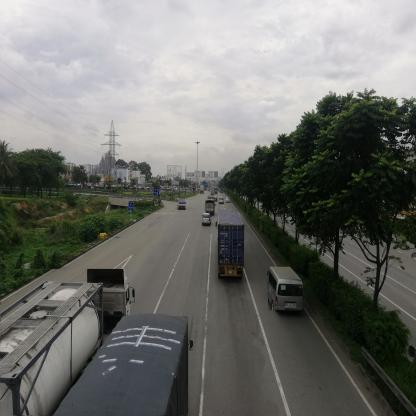car: (269, 268, 304, 312), (204, 213, 212, 227), (220, 199, 225, 206), (227, 197, 231, 203)
container: (216, 210, 248, 287)
truck: (2, 270, 128, 416), (70, 317, 189, 416), (178, 201, 187, 211), (208, 201, 215, 213)
